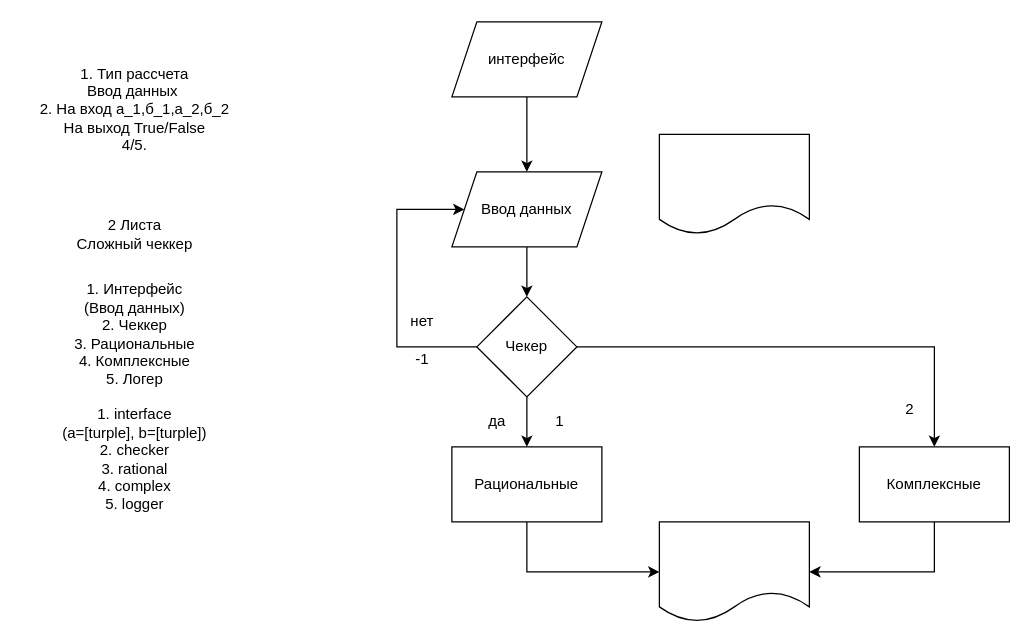
This 1031x644 diagram has some shape labels left out. Here are the shapes that lost their labels. From the top down, the box of each, then its label:
(658, 133, 809, 234): Логер
(658, 521, 809, 622): Результат
